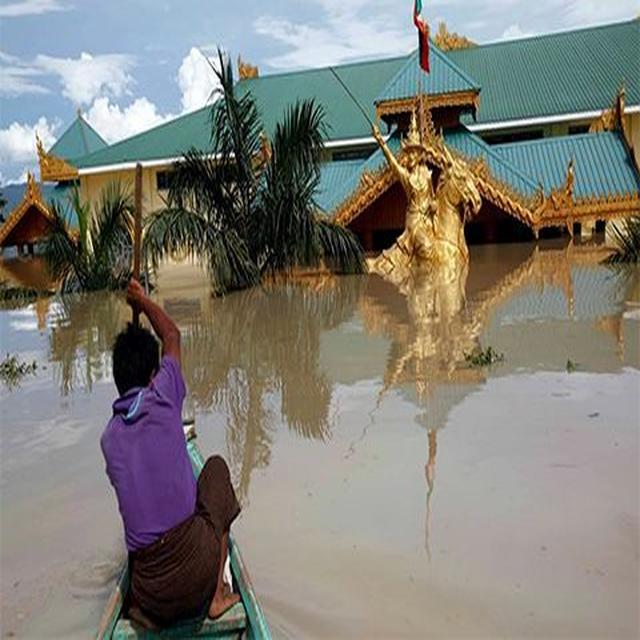Person-RiskLevel3: (72, 268, 268, 632)
